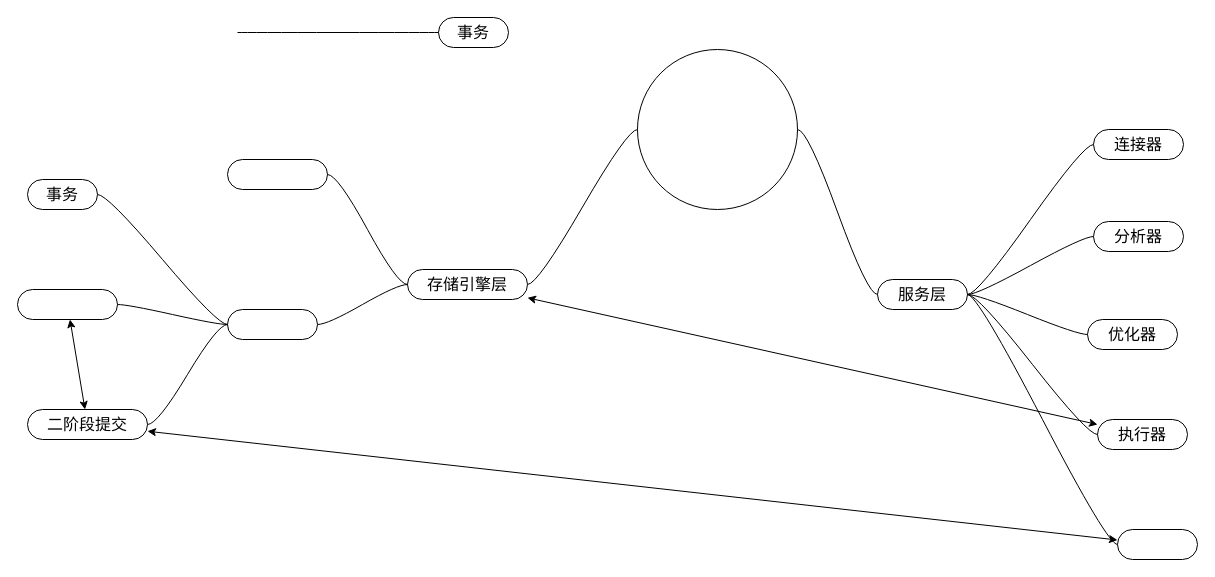
Some shapes in this 1215 by 577 pixel diagram are drawn without their labels. The shapes that lost their labels are listed below. From the top down, each one's centre as x and y in pixels, then its label:
At point (717, 129): "MySQL".
At point (277, 174): "MyISAM".
At point (67, 304): "redo log".
At point (272, 324): "InnoDB".
At point (1157, 544): "binlog".
